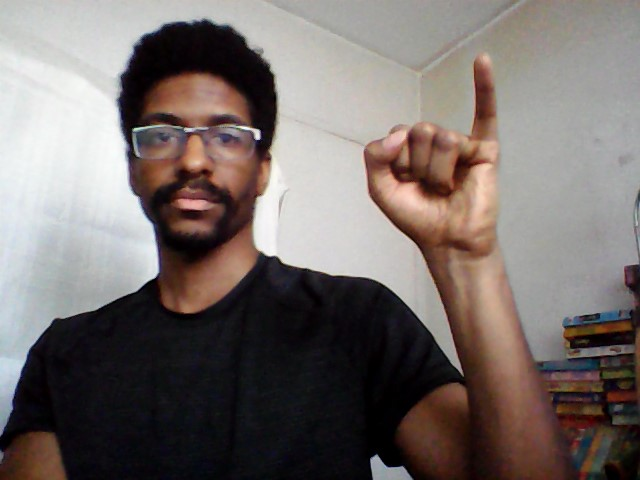i: (359, 48, 510, 258)
